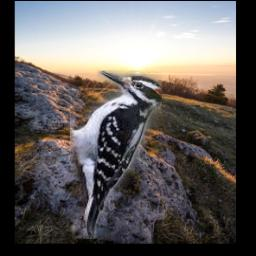Woodpecker: (70, 70, 162, 239)
